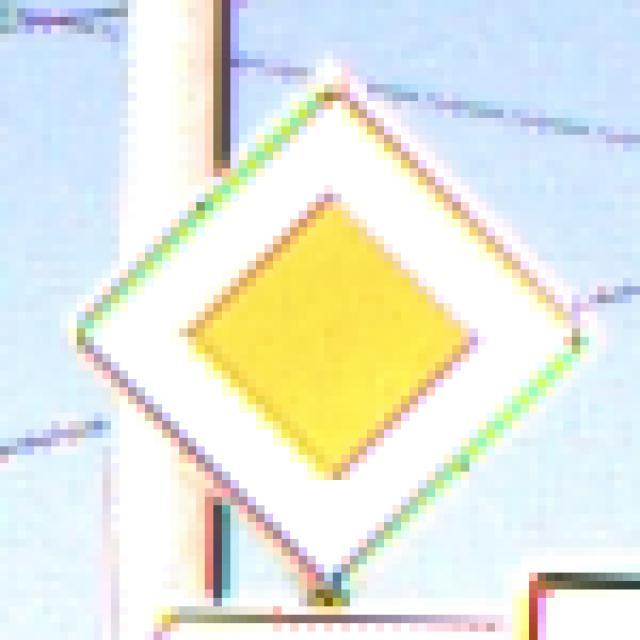Main Road: (61, 52, 590, 591)
